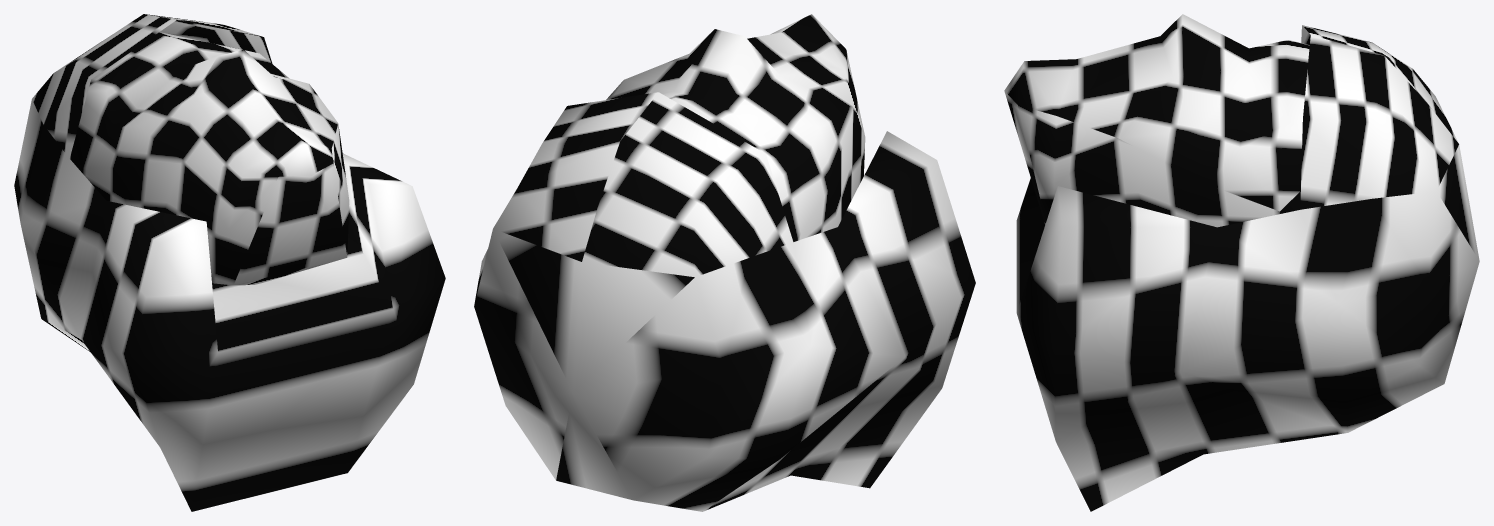
Rendered from infaunhufeth1.dae.
The picture shows the model from 3 angles, left to right: view 1: azimuth 30°, elevation 25°; view 2: azimuth 150°, elevation 25°; view 3: azimuth 270°, elevation 25°; orthographic projection. The views are drawn at different scales.
Parts seen in each view (by area): view 1: face; view 2: face; view 3: face.
Part boxes in pixels (<box>): face: <box>14,14,445,511</box>; face: <box>474,14,975,511</box>; face: <box>1004,14,1479,511</box>.
Bounding box in the file's own units: 1.16 × 1.39 × 1.45.
1 material, 1 textured.
